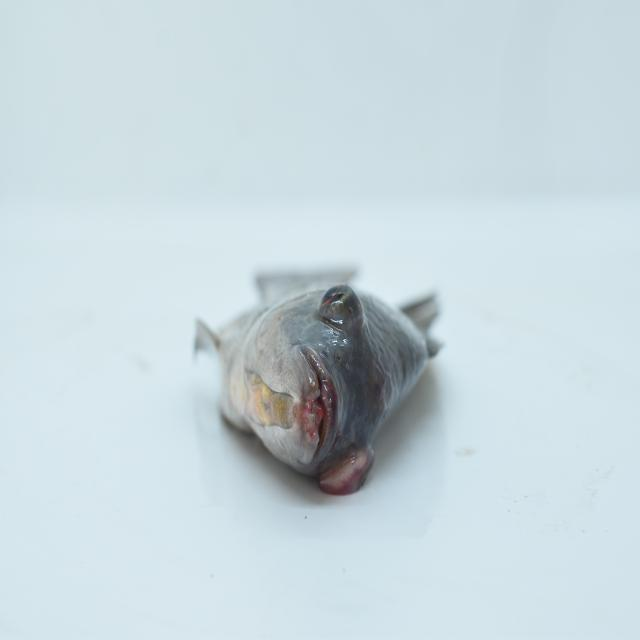Columnaris Disease: (177, 150, 463, 537)
